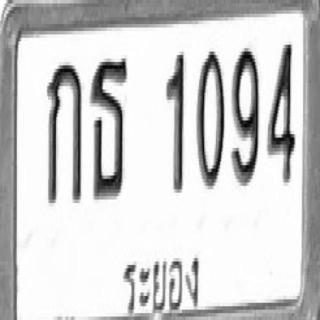A01: (46, 60, 81, 205)
A24: (90, 55, 127, 200)
N00: (196, 48, 224, 189)
N01: (165, 50, 185, 194)
N04: (266, 41, 294, 182)
N09: (232, 45, 259, 186)
P53: (115, 246, 205, 314)
